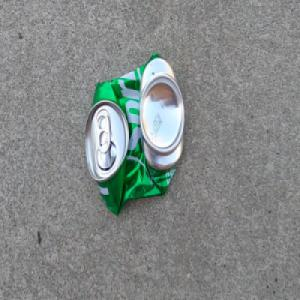SodaCan: (84, 50, 185, 217)
